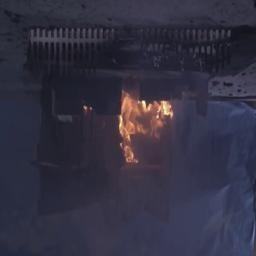fire: (116, 92, 173, 164)
